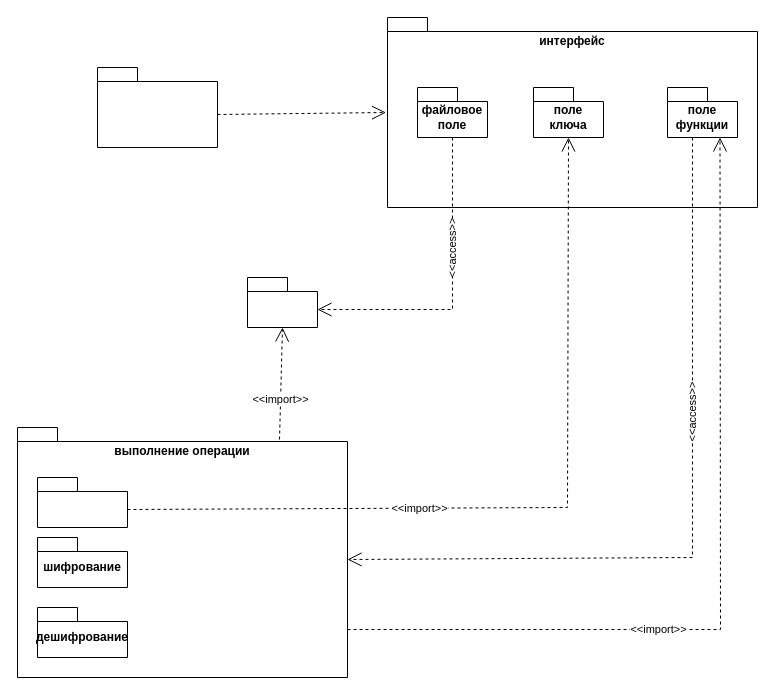
The diagram is 775 pixels wide and 695 high, and some of its shapes have lost their labels. Here are the shapes that lost their labels. From the top down, the centre of each, then its label:
the point at 157,107: пользователь
the point at 282,302: хранилище
the point at 82,502: генерация
